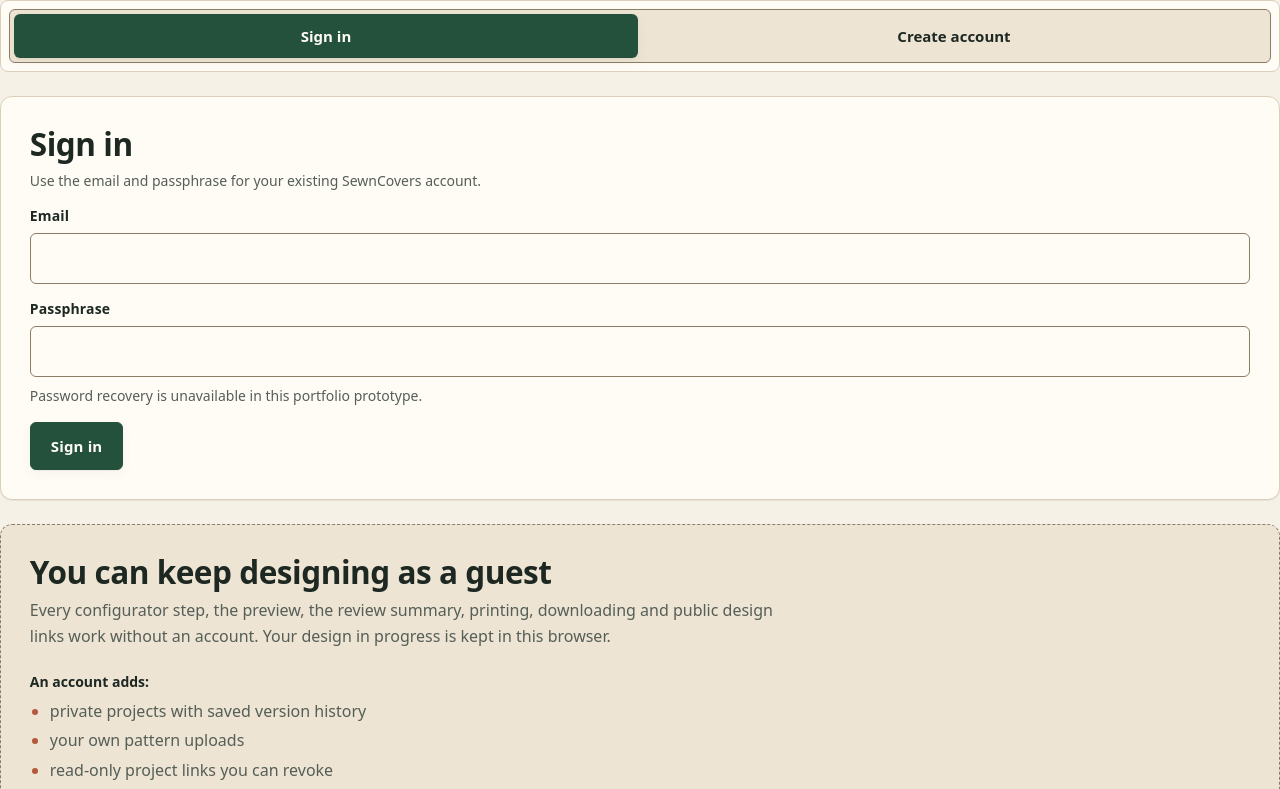
it: keeps secure credential failures at form level without erasing email
Expected: the heading "Sign in" is shown, [30,126,133,162]
In the field labelled "Email": (640, 258) [30,232,1250,284], type "person@example.com"
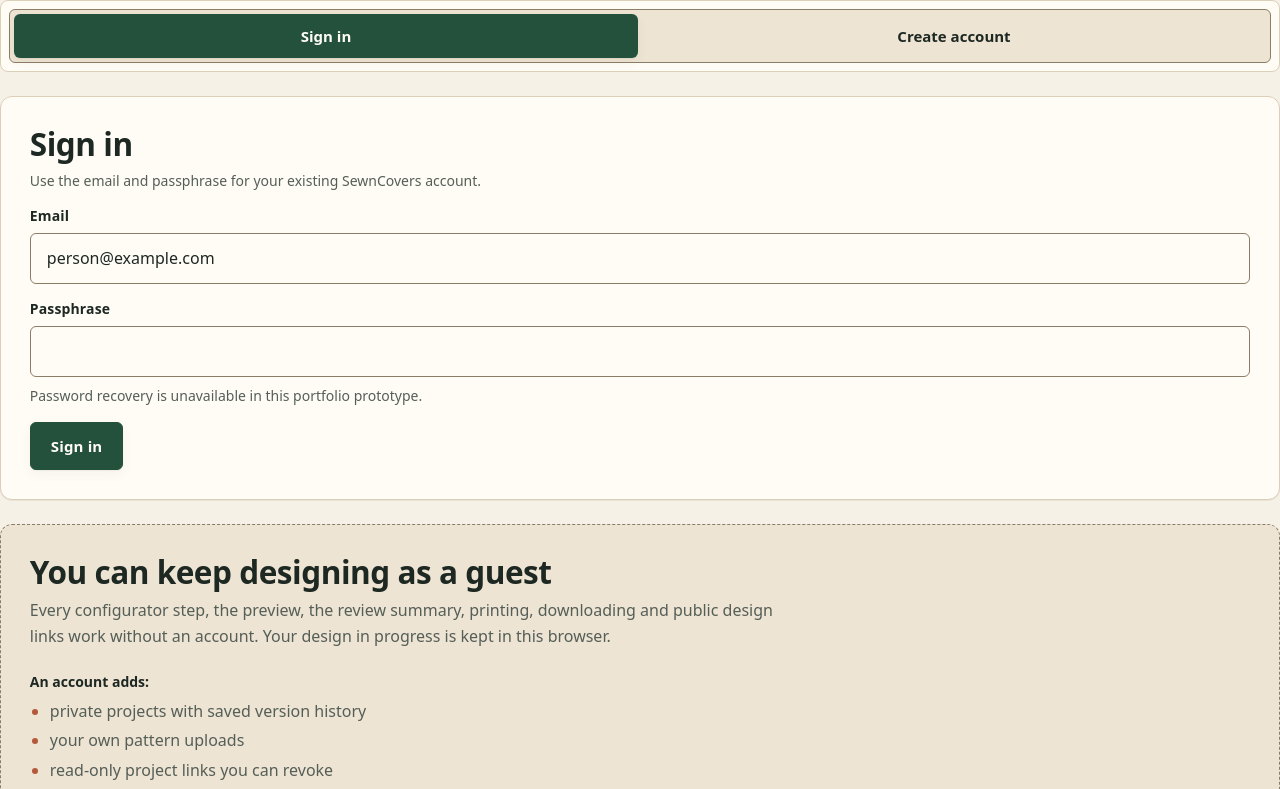
In the password field labelled "Passphrase": (640, 351) [30,326,1250,377], type "correct horse battery staple"
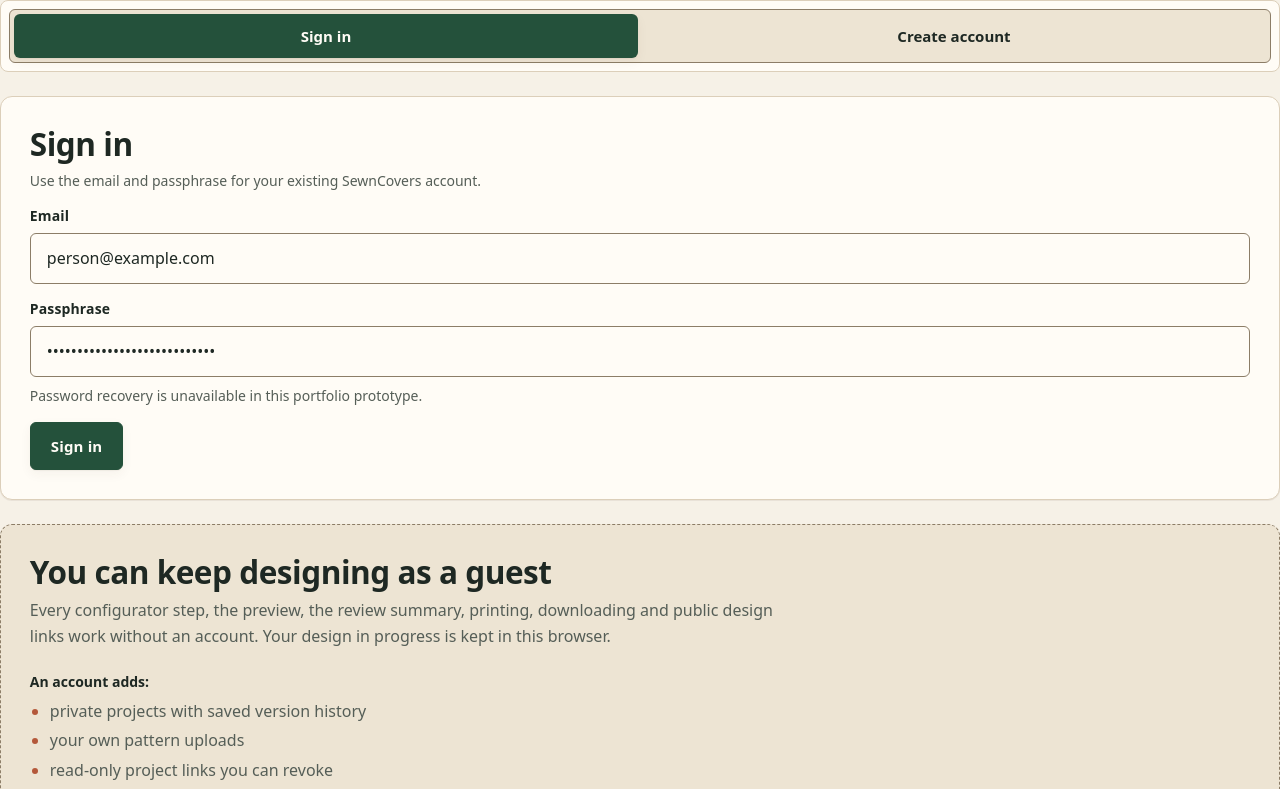
Click the button "Sign in": (77, 446) [30,422,123,470]
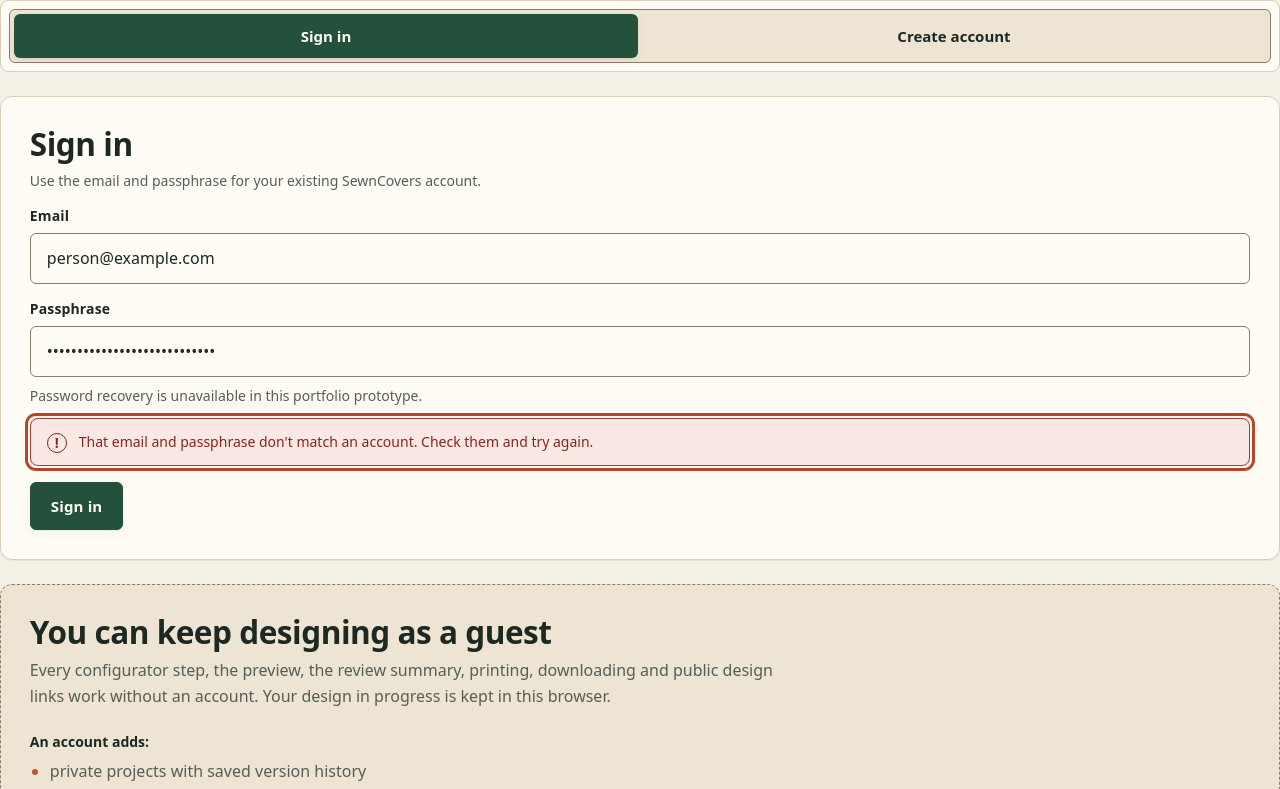
Expected: the message "! That email and passphrase don't match an account. Check them and try again." is shown, [30,418,1250,466]
Expected: the text "That email and passphrase don't match an account. Check them and try again." is shown, [79,431,593,452]
